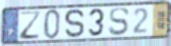0: (43, 8, 62, 41)
2: (132, 7, 151, 36)
3: (87, 7, 107, 38)
S: (63, 7, 86, 40), (108, 6, 130, 37)
Z: (19, 9, 43, 40)
